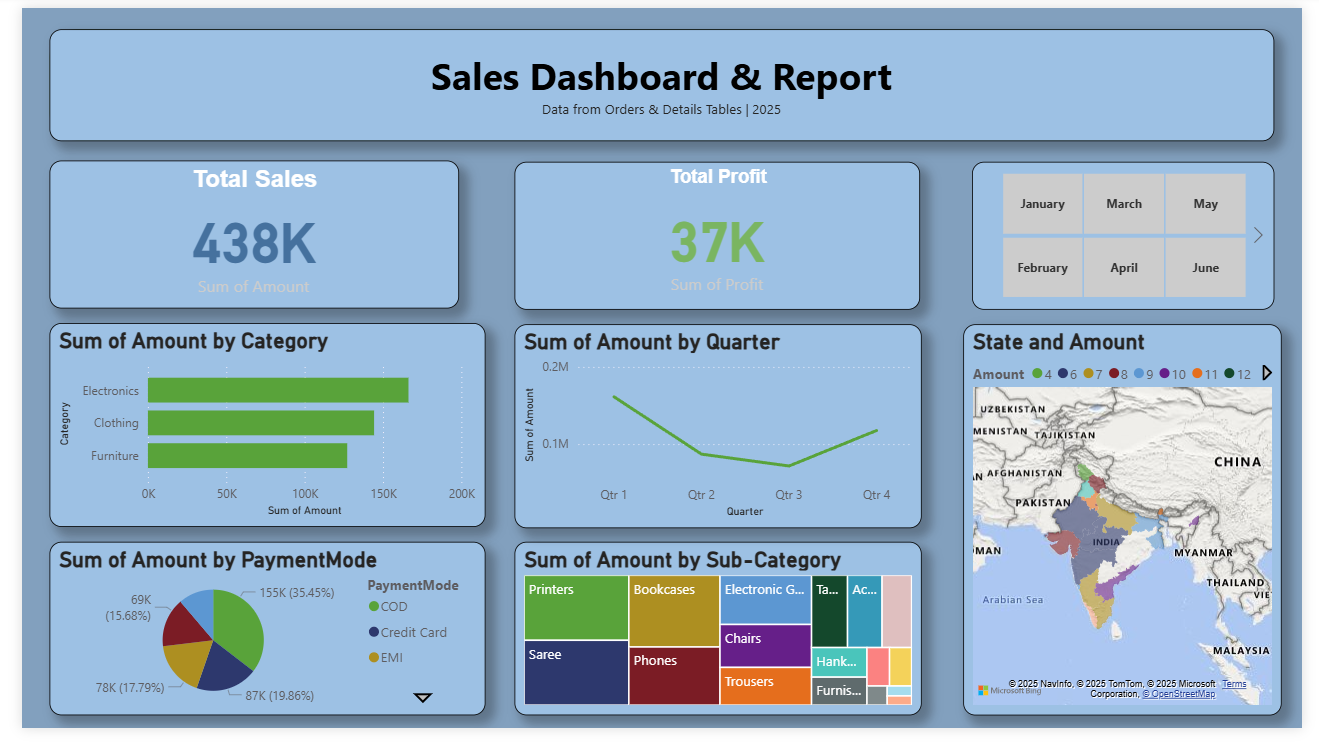

This screenshot's page, from the dashboard's own definition file:
{"tool":"powerbi","page":{"name":"Page 1","canvas":[1280,720],"ordinal":0},"visuals":[{"type":"card","title":"Total Sales","fields":{"Values":["Sum(Details.Amount)"]},"box":[27.9,152.3,409.3,147.7],"z":0},{"type":"card","title":"Total Profit","fields":{"Values":["Sum(Details.Profit)"]},"box":[493,153.5,405.8,147.7],"z":1000},{"type":"barChart","fields":{"Category":["Details.Category"],"Y":["Sum(Details.Amount)"]},"box":[27.5,315,436.2,203.8],"z":2000},{"type":"treemap","fields":{"Values":["Sum(Details.Amount)"],"Group":["Details.Sub-Category"]},"box":[492.5,533.8,407.5,173.8],"z":3000},{"type":"filledMap","fields":{"Series":["Details.Amount"],"Category":["Orders.State"]},"box":[941.2,316.2,318.8,391.2],"z":4000},{"type":"lineChart","fields":{"Category":["Orders.Order Date.Variation.Date Hierarchy.Quarter"],"Y":["Sum(Details.Amount)"]},"box":[492.5,316.2,407.5,203.8],"z":5000},{"type":"pieChart","fields":{"Category":["Details.PaymentMode"],"Y":["Sum(Details.Amount)"]},"box":[27.5,533.8,436.2,173.8],"z":6000},{"type":"slicer","fields":{"Values":["Orders.Order Date.Variation.Date Hierarchy.Month"]},"box":[950,153.5,302.3,147.7],"z":7000},{"type":"shape","box":[27.9,20.9,1224.4,111.6],"z":8000},{"type":"textbox","box":[27.9,20.9,1224.4,111.6],"z":9000}]}

Visuals, with their boxes in screenshot pixels (x1, y1, x2, y2), scaled from the page's 1280x720 canvas onto the 1319x749 screenshot:
"Total Sales" card: 29:158:451:312
"Total Profit" card: 508:160:926:313
barChart - Details.Category x Sum(Details.Amount): 28:328:478:540
treemap - Sum(Details.Amount) x Details.Sub-Category: 508:555:927:736
filledMap - Details.Amount x Orders.State: 970:329:1298:736
lineChart - Orders.Order Date.Variation.Date Hierarchy.Quarter x Sum(Details.Amount): 508:329:927:541
pieChart - Details.PaymentMode x Sum(Details.Amount): 28:555:478:736
slicer - Orders.Order Date.Variation.Date Hierarchy.Month: 979:160:1290:313
shape: 29:22:1290:138
textbox: 29:22:1290:138
